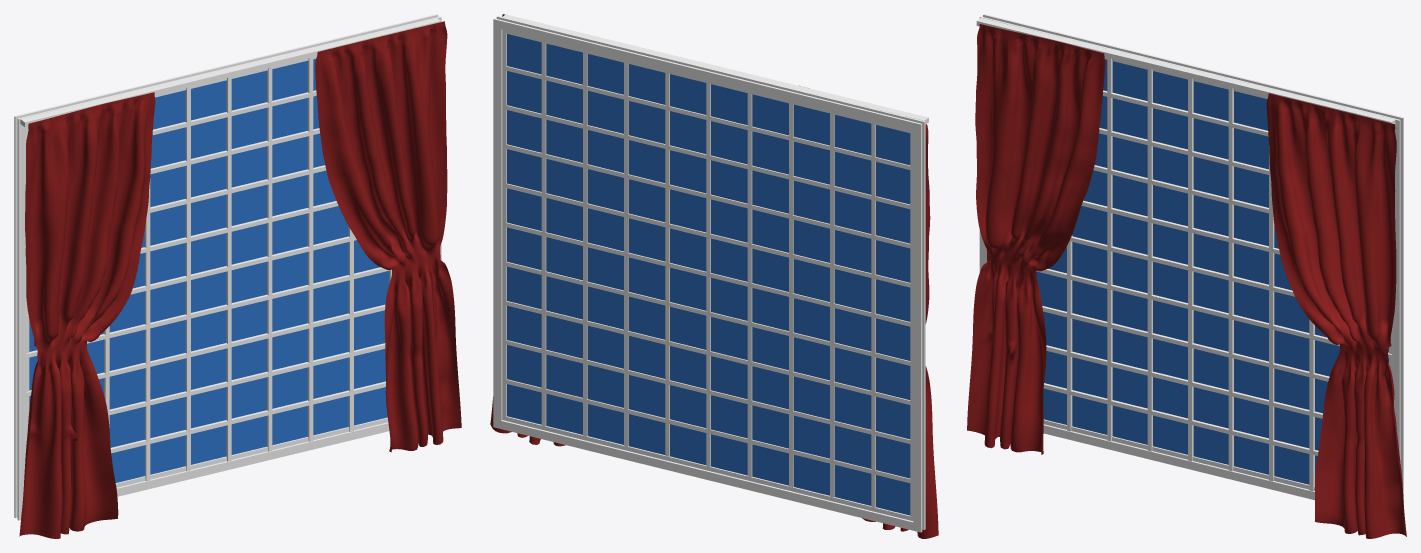
3 views of the same model, side by side, from view 1: azimuth 30°, elevation 25°; view 2: azimuth 150°, elevation 25°; view 3: azimuth 330°, elevation 25° (orthographic).
Parts seen in each view (by area): view 1: FixedWindow001, Plane001_Solid Glass_0, Plane002_Solid Glass_0, Box001; view 2: FixedWindow001, Plane001_Solid Glass_0, Box001; view 3: FixedWindow001, Plane002_Solid Glass_0, Plane001_Solid Glass_0, Box001.
Part boxes in pixels (x1=…): FixedWindow001: x1=14, y1=14, x2=441, y2=520; Plane001_Solid Glass_0: x1=19, y1=92, x2=155, y2=538; Plane002_Solid Glass_0: x1=315, y1=21, x2=461, y2=452; Box001: x1=20, y1=18, x2=440, y2=126; FixedWindow001: x1=493, y1=16, x2=925, y2=532; Plane001_Solid Glass_0: x1=799, y1=85, x2=938, y2=538; Box001: x1=503, y1=14, x2=928, y2=124; FixedWindow001: x1=979, y1=14, x2=1403, y2=504; Plane002_Solid Glass_0: x1=1266, y1=93, x2=1406, y2=538; Plane001_Solid Glass_0: x1=967, y1=24, x2=1105, y2=454; Box001: x1=976, y1=18, x2=1395, y2=124.
Bounding box in the file's own units: 113 × 102 × 10.32.
